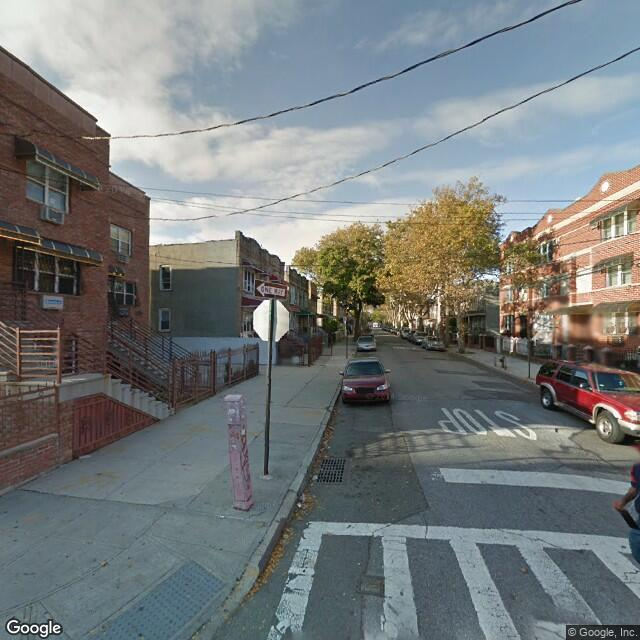litter: (300, 491, 308, 504), (310, 473, 319, 483), (296, 501, 304, 508)
